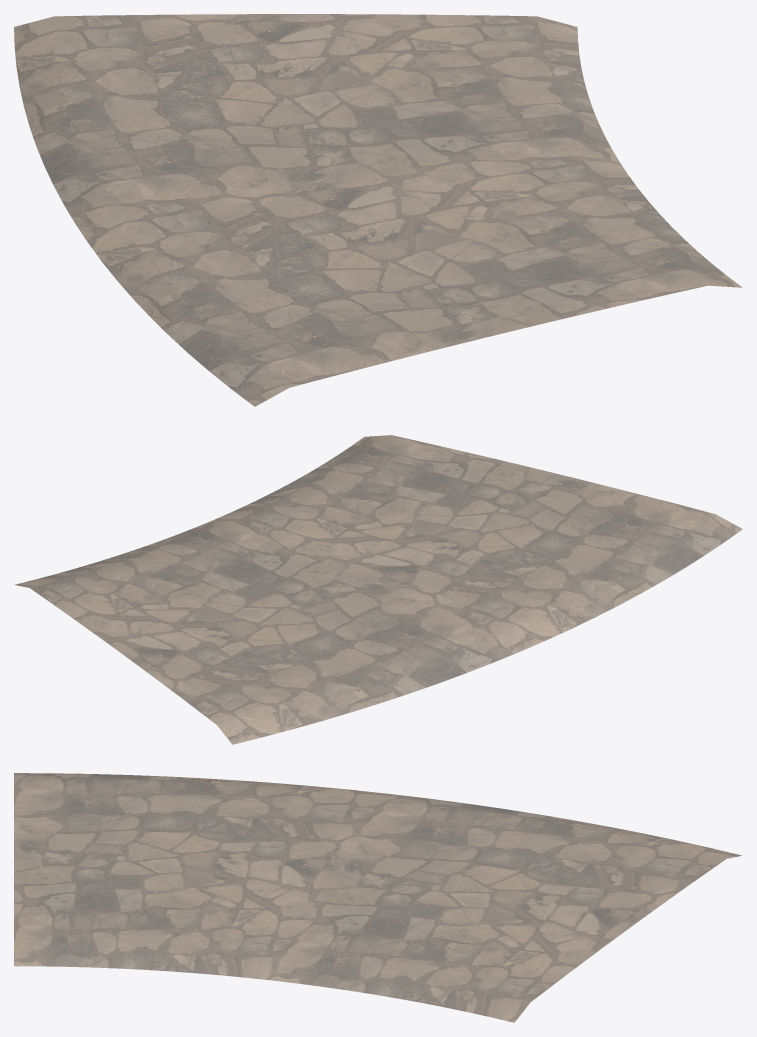
The model's file is path_curve_30deg.glb.
3 views of the same model, one above another, from view 1: azimuth 30°, elevation 25°; view 2: azimuth 150°, elevation 25°; view 3: azimuth 270°, elevation 25° (orthographic). The views are drawn at different scales.
Parts seen in each view (by area): view 1: Path_Curve_30deg; view 2: Path_Curve_30deg; view 3: Path_Curve_30deg.
Part boxes in pixels (<box>): Path_Curve_30deg: <box>14,14,742,406</box>; Path_Curve_30deg: <box>14,435,742,744</box>; Path_Curve_30deg: <box>14,773,741,1022</box>.
Size of the model in its own units: 3.67 by 0.072 by 4.53.
1 material, 1 textured.
